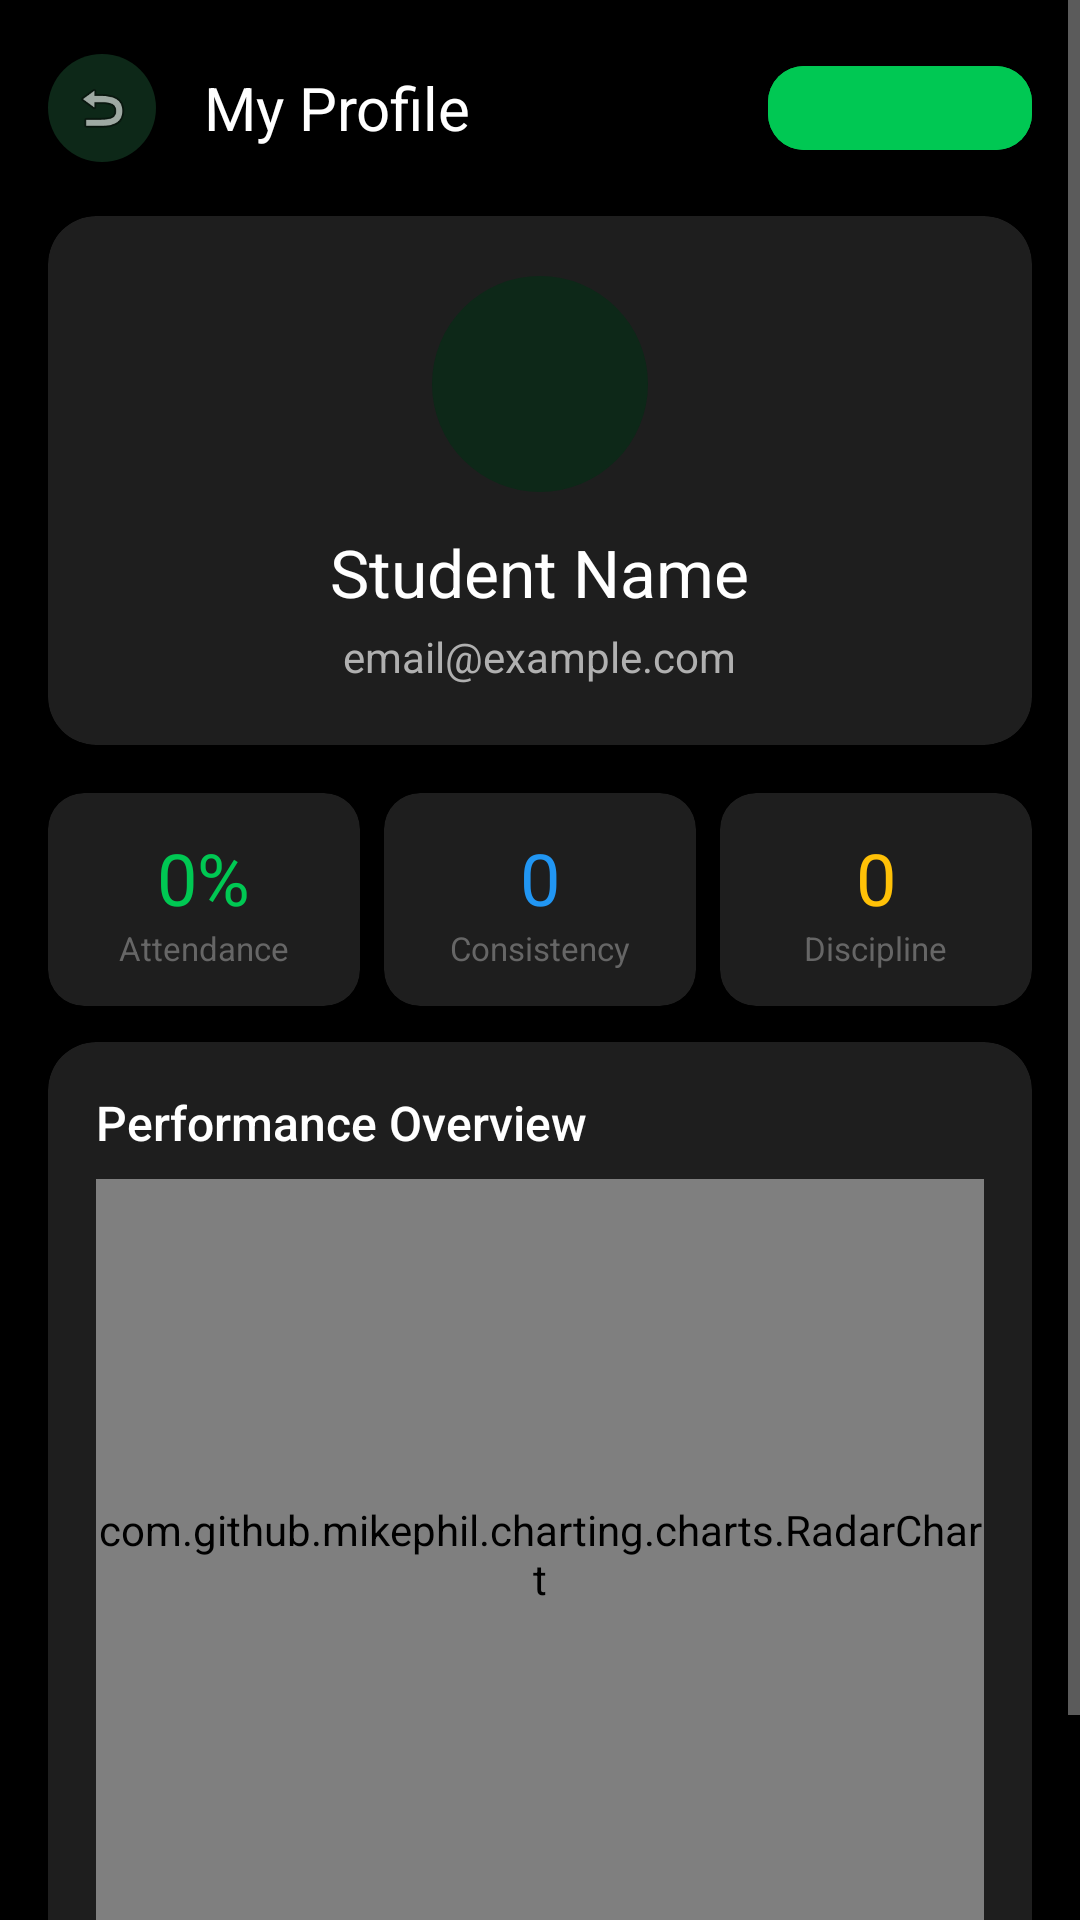

Icon click points for this 1080px x 1920px phone screenshot, format (x=x, y=y):
revert: (x=102, y=108)
